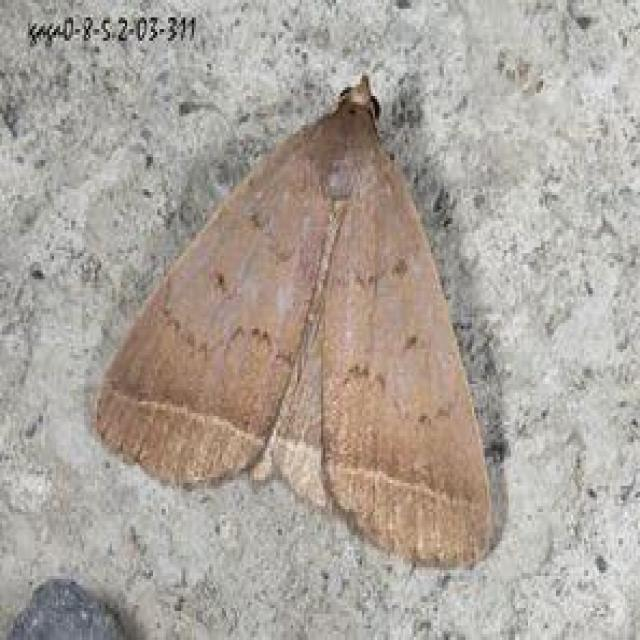BeetArmyWorm-Adult-: (86, 53, 517, 564)
